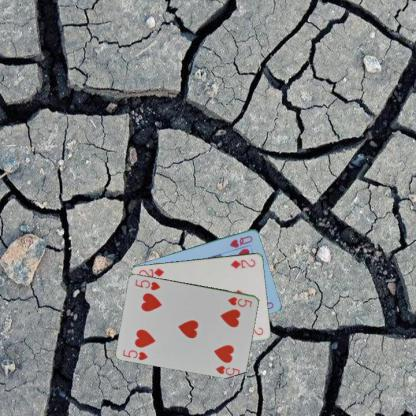2d: (228, 257, 257, 269)
5h: (120, 346, 149, 362), (225, 294, 253, 309)
Qh: (227, 233, 254, 248)
